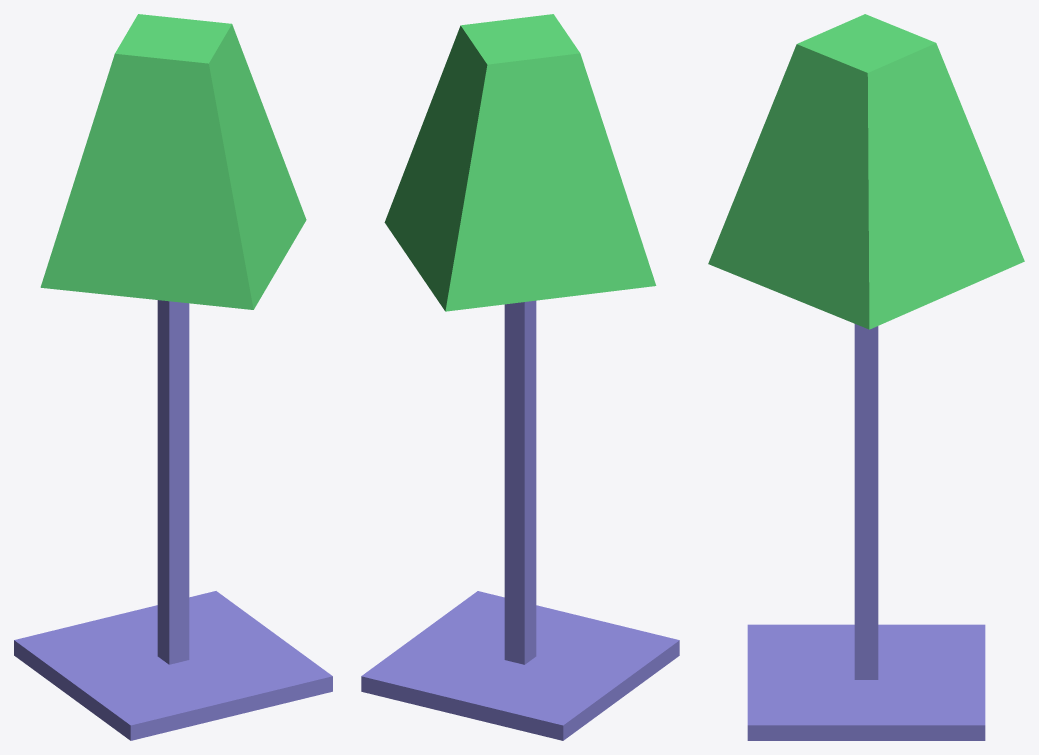
File: newlamp.fbx
3 views of the same model, side by side, from view 1: azimuth 30°, elevation 25°; view 2: azimuth 150°, elevation 25°; view 3: azimuth 270°, elevation 25° (orthographic). The views are drawn at different scales.
Parts seen in each view (by area): view 1: Cube.005; view 2: Cube.005; view 3: Cube.005.
Part boxes in pixels (left/top/right/bottom): Cube.005: left=14, top=14, right=332, bottom=740; Cube.005: left=361, top=14, right=679, bottom=740; Cube.005: left=708, top=14, right=1024, bottom=740.
Size of the model in its own units: 266 by 600 by 266.
